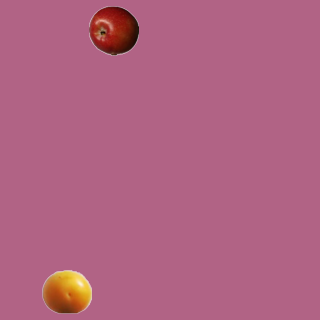Apple Braeburn: (88, 5, 138, 55)
Cherry Wax Yellow: (41, 266, 91, 316)
